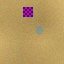person: (35, 25, 42, 34)
